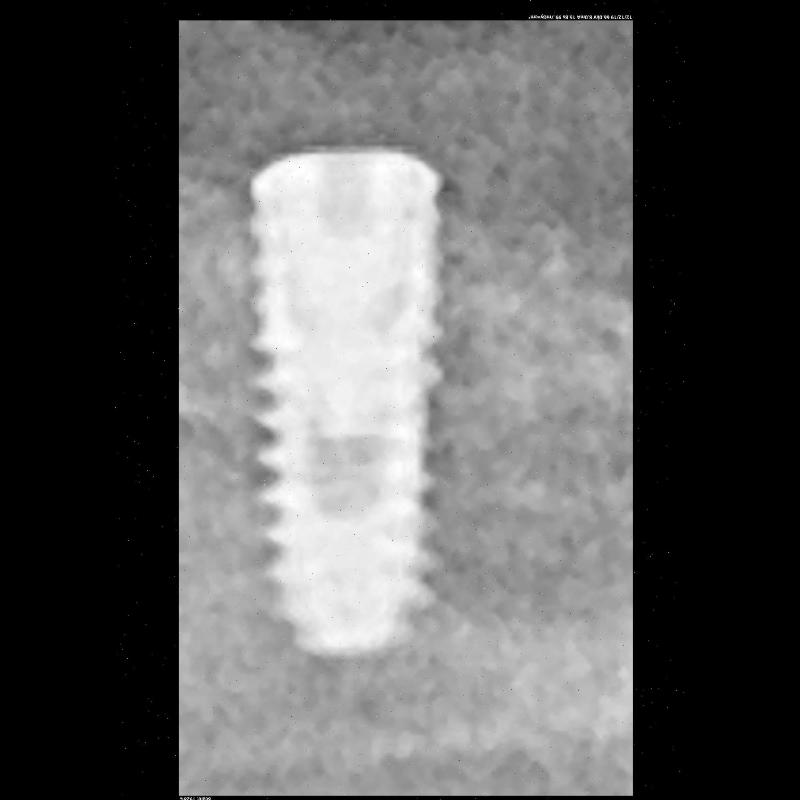osstem: (226, 119, 460, 665)
